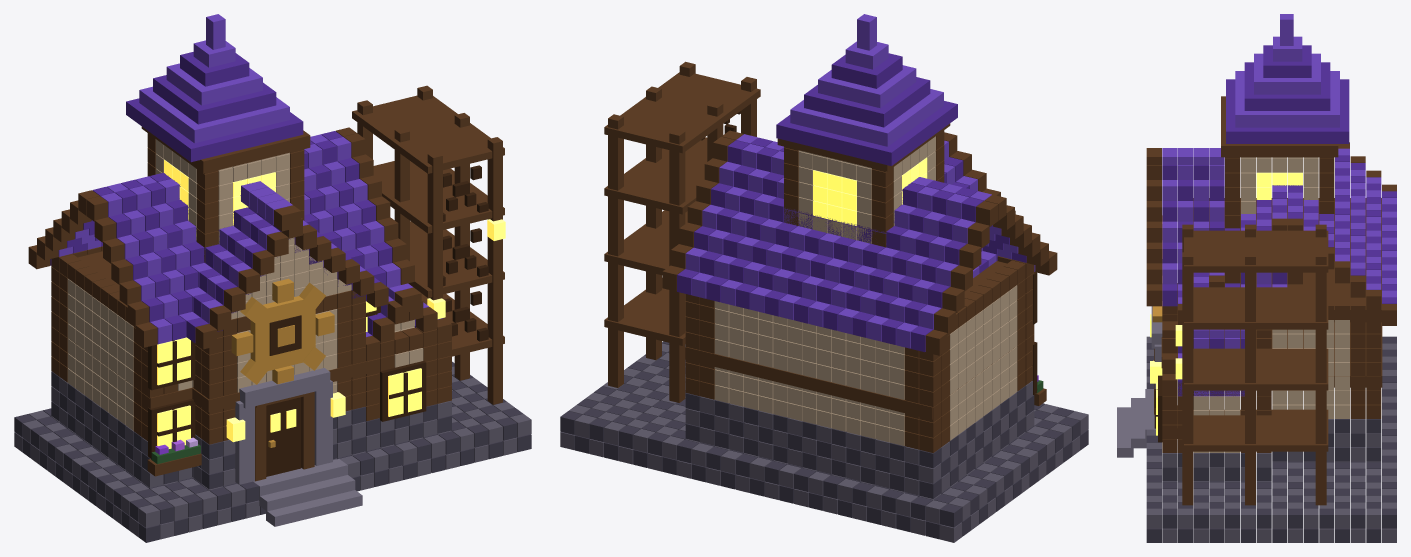
The model's file is workshop.glb.
3 views of the same model, side by side, from view 1: azimuth 30°, elevation 25°; view 2: azimuth 150°, elevation 25°; view 3: azimuth 270°, elevation 25° (orthographic). The views are drawn at different scales.
Visible parts, largest first — view 1: beam, roof, roofLight, stone, stoneDark, plaster, stoneLight, beamDark, Gear, glass, lantern; view 2: beam, plaster, roof, roofLight, stoneDark, stone, lantern, beamDark; view 3: beam, roofLight, roof, stoneDark, stone, plaster, stoneLight, lantern, beamDark.
Part boxes in pixels (left/top/right/bottom): beam: left=28, top=85, right=504, bottom=481; roof: left=50, top=52, right=443, bottom=342; roofLight: left=58, top=14, right=428, bottom=344; stone: left=14, top=366, right=531, bottom=539; stoneDark: left=14, top=361, right=531, bottom=542; plaster: left=67, top=139, right=423, bottom=430; stoneLight: left=235, top=368, right=362, bottom=526; beamDark: left=148, top=165, right=488, bottom=476; Gear: left=231, top=278, right=334, bottom=384; glass: left=157, top=301, right=421, bottom=448; lantern: left=164, top=159, right=505, bottom=442; beam: left=604, top=61, right=1057, bottom=452; plaster: left=714, top=136, right=1017, bottom=445; roof: left=677, top=53, right=1026, bottom=352; roofLight: left=685, top=14, right=1035, bottom=348; stoneDark: left=560, top=341, right=1088, bottom=539; stone: left=560, top=343, right=1088, bottom=542; lantern: left=813, top=157, right=927, bottom=225; beamDark: left=701, top=111, right=1037, bottom=394; beam: left=1146, top=96, right=1396, bottom=505; roofLight: left=1162, top=14, right=1396, bottom=396; roof: left=1162, top=45, right=1396, bottom=396; stoneDark: left=1146, top=336, right=1396, bottom=542; stone: left=1146, top=336, right=1396, bottom=542; plaster: left=1193, top=157, right=1349, bottom=452; stoneLight: left=1117, top=306, right=1162, bottom=457; lantern: left=1150, top=172, right=1302, bottom=383; beamDark: left=1154, top=330, right=1193, bottom=442.
Bounding box in the file's own units: 4.31 × 4.66 × 2.86.
